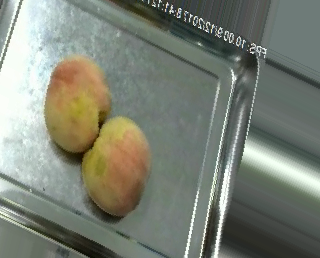Peach: (81, 115, 153, 216), (43, 54, 110, 152)
